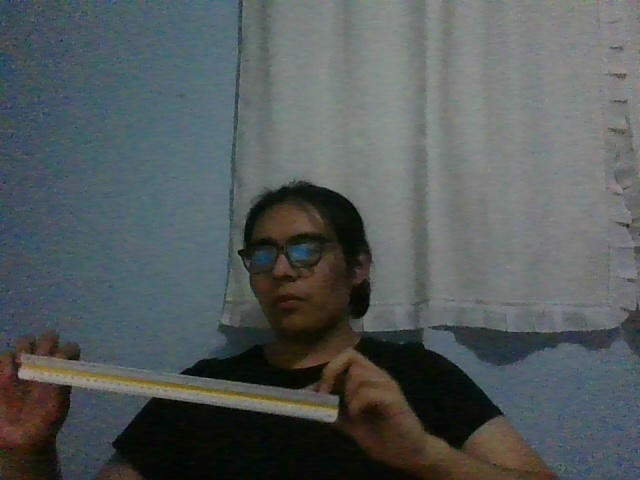regla: (16, 353, 341, 425)
